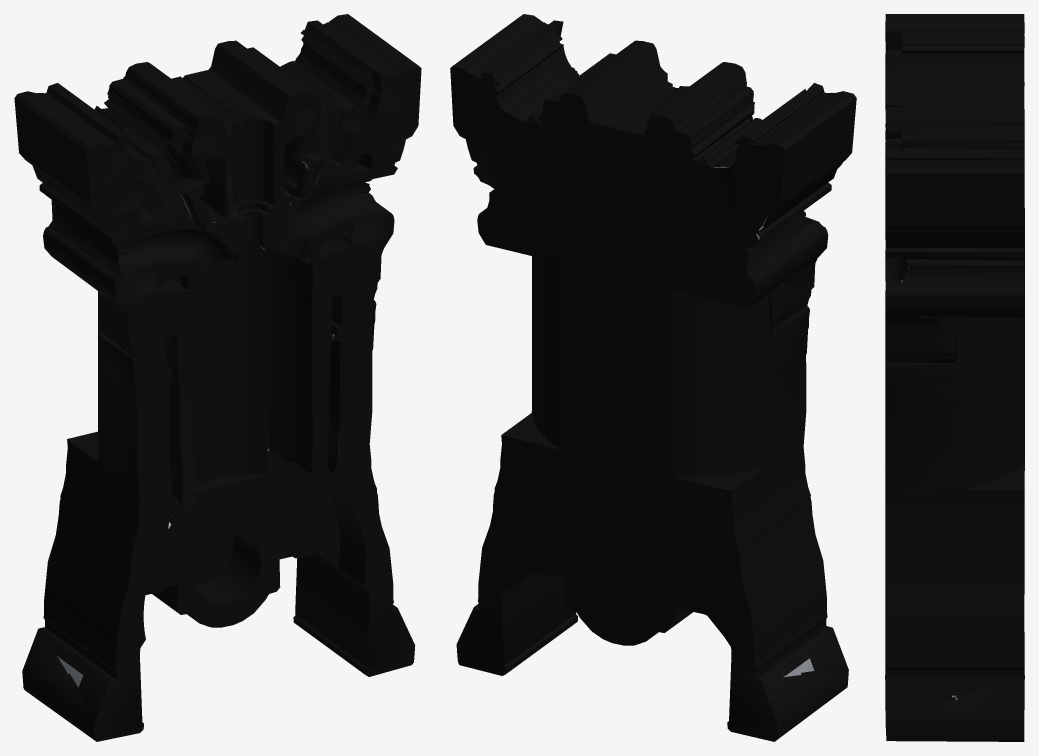
The model's file is EngineBlock.fbx.
3 renders of one model, left to right at view 1: azimuth 30°, elevation 25°; view 2: azimuth 150°, elevation 25°; view 3: azimuth 270°, elevation 25°, orthographic. The views are drawn at different scales.
Parts seen in each view (by area): view 1: EngineBlock; view 2: EngineBlock; view 3: EngineBlock.
Part boxes in pixels (box(x1,y1,x2,y2)): EngineBlock: box(14, 14, 421, 741); EngineBlock: box(450, 14, 856, 741); EngineBlock: box(885, 14, 1024, 741).
Bounding box in the file's own units: 0.2238 × 0.3824 × 0.0838.
1 material, 1 textured.
